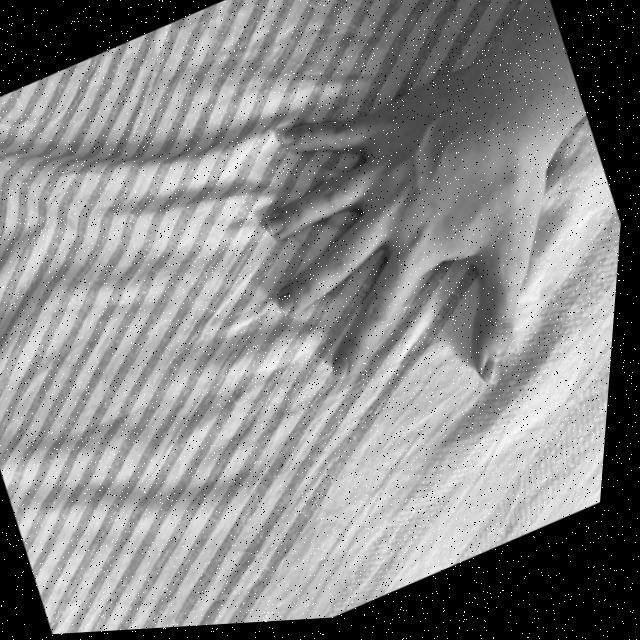hand: (209, 5, 638, 467)
